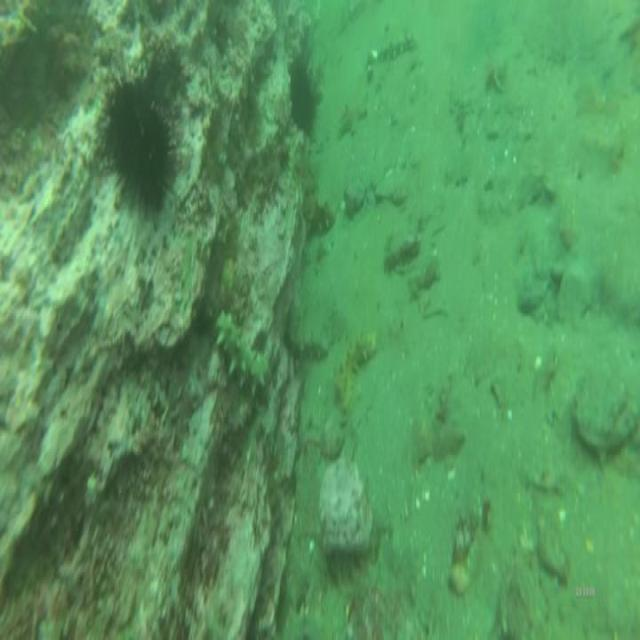echinus: (100, 59, 180, 229), (290, 62, 324, 142)
holothurian: (213, 305, 273, 397), (330, 324, 380, 408), (299, 185, 335, 235), (289, 320, 328, 364), (368, 33, 417, 63)
